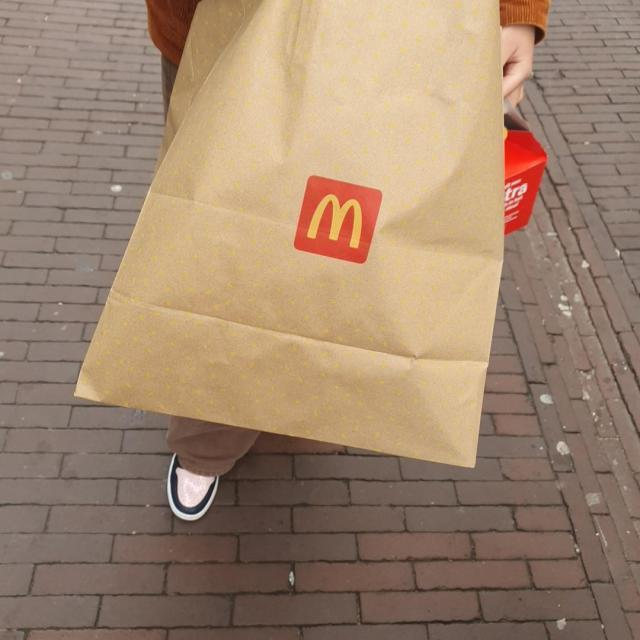Paper: (73, 0, 505, 470)
